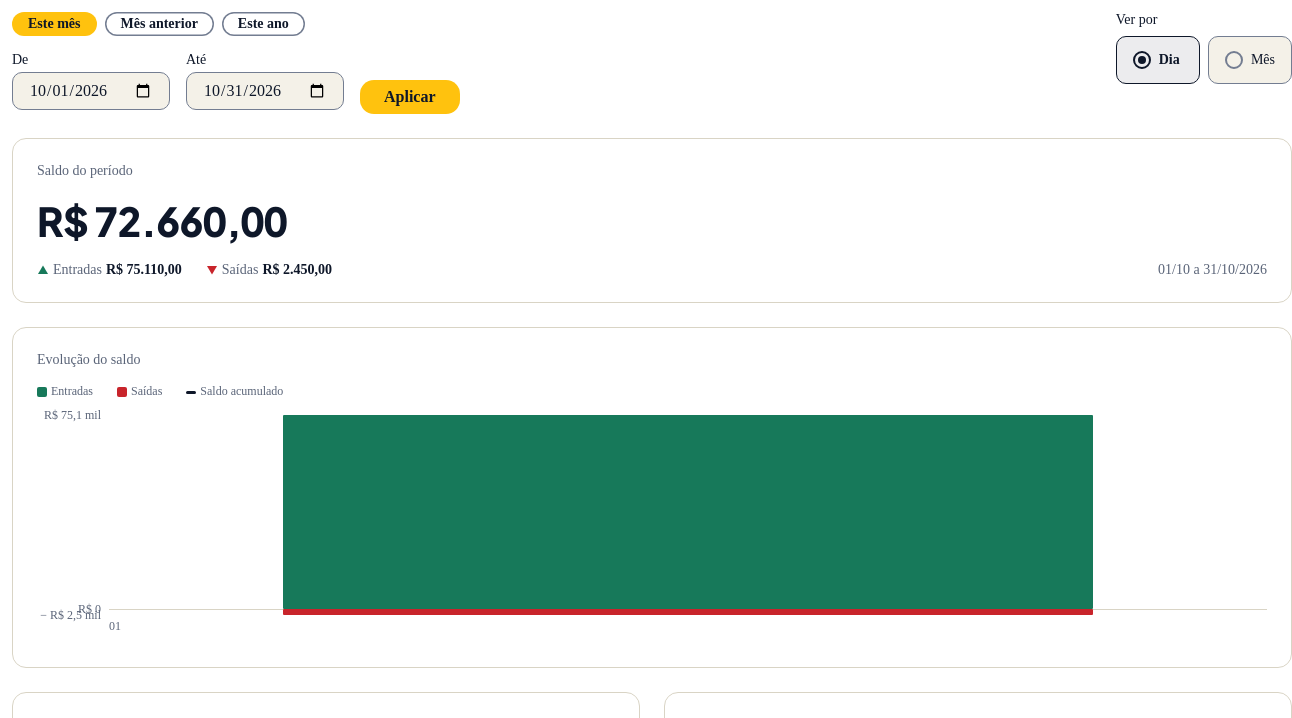
Test: FluxoCaixa: período › datas obrigatórias: campo vazio mostra o erro e não aplica
Expected: the heading "Saldo do período" is shown, [37,163,133,178]
Clear the date field labelled "De". click: (91, 91)
box: [12,72,170,110]
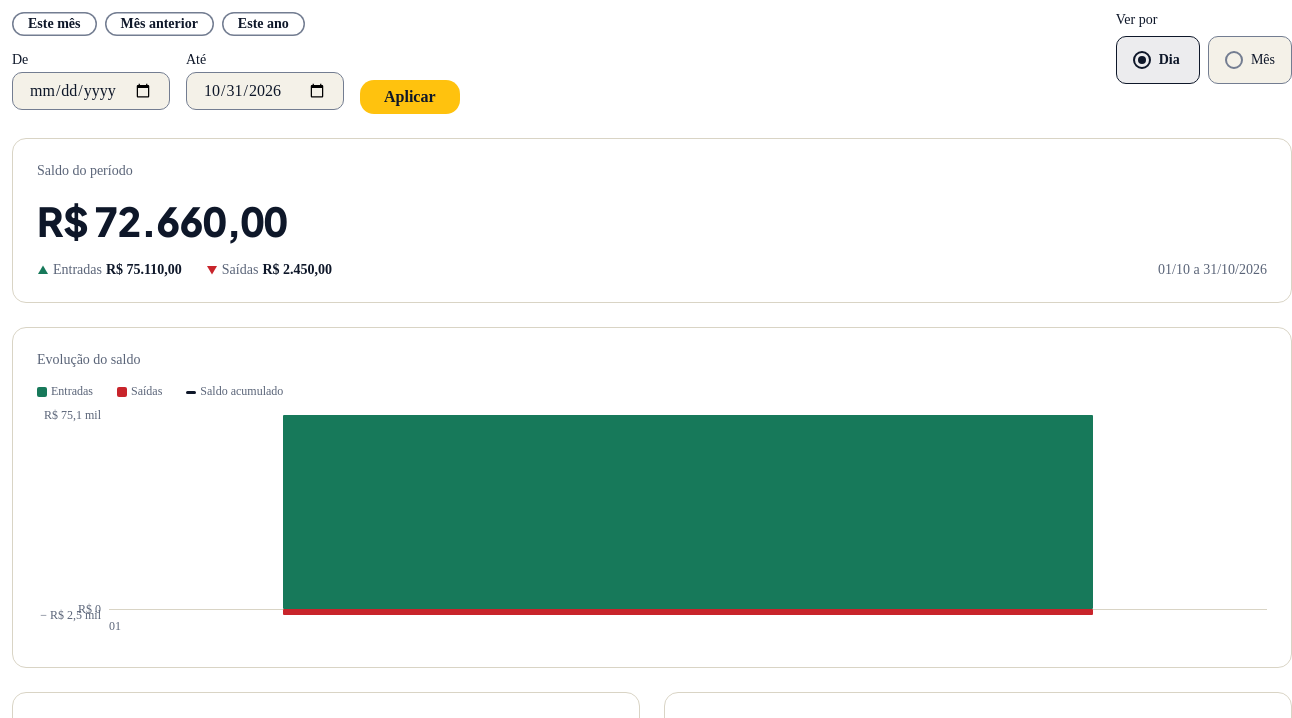
Click the button "Aplicar". click: (410, 97)
box: [360,80,460,114]
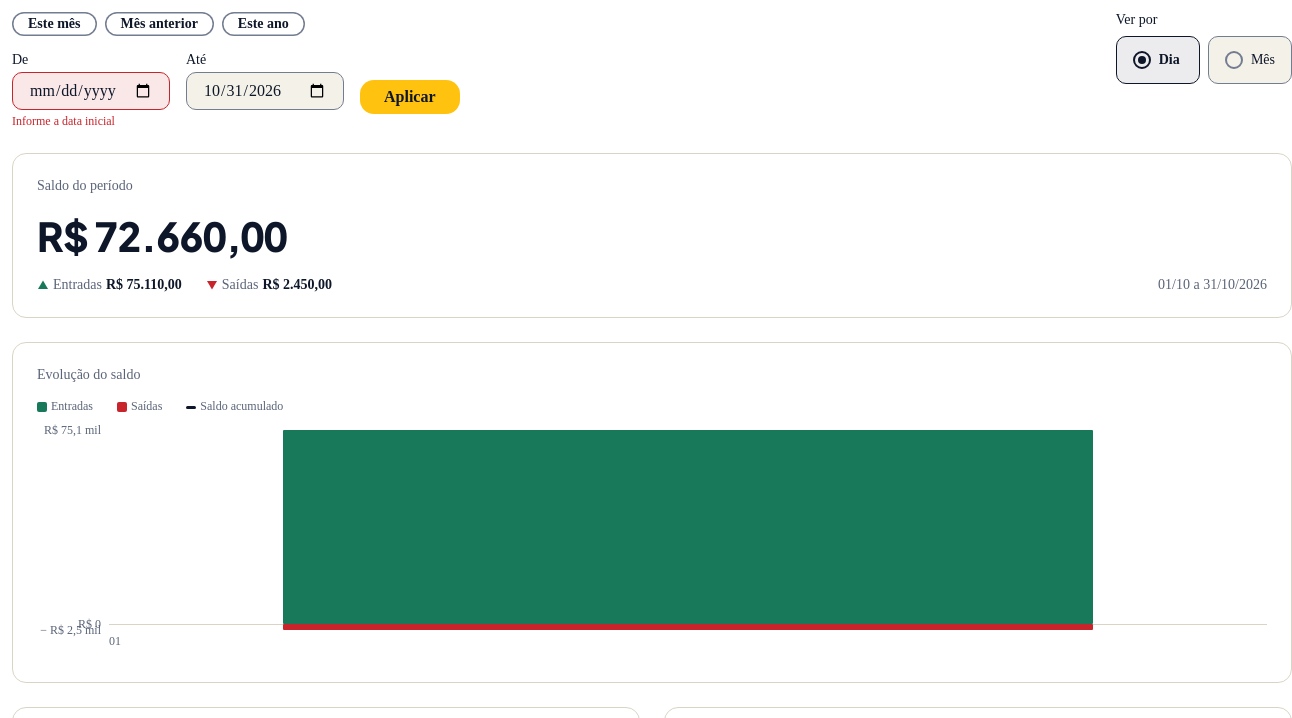
Expected: the text "Informe a data inicial" is shown, [12,114,115,128]
